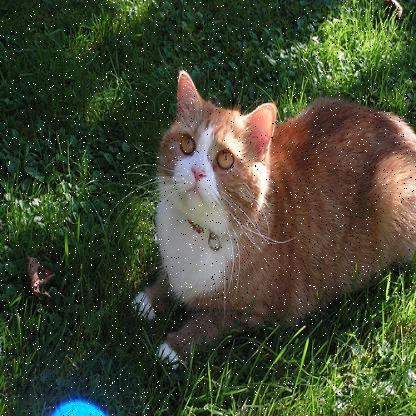cat: (128, 58, 415, 369)
